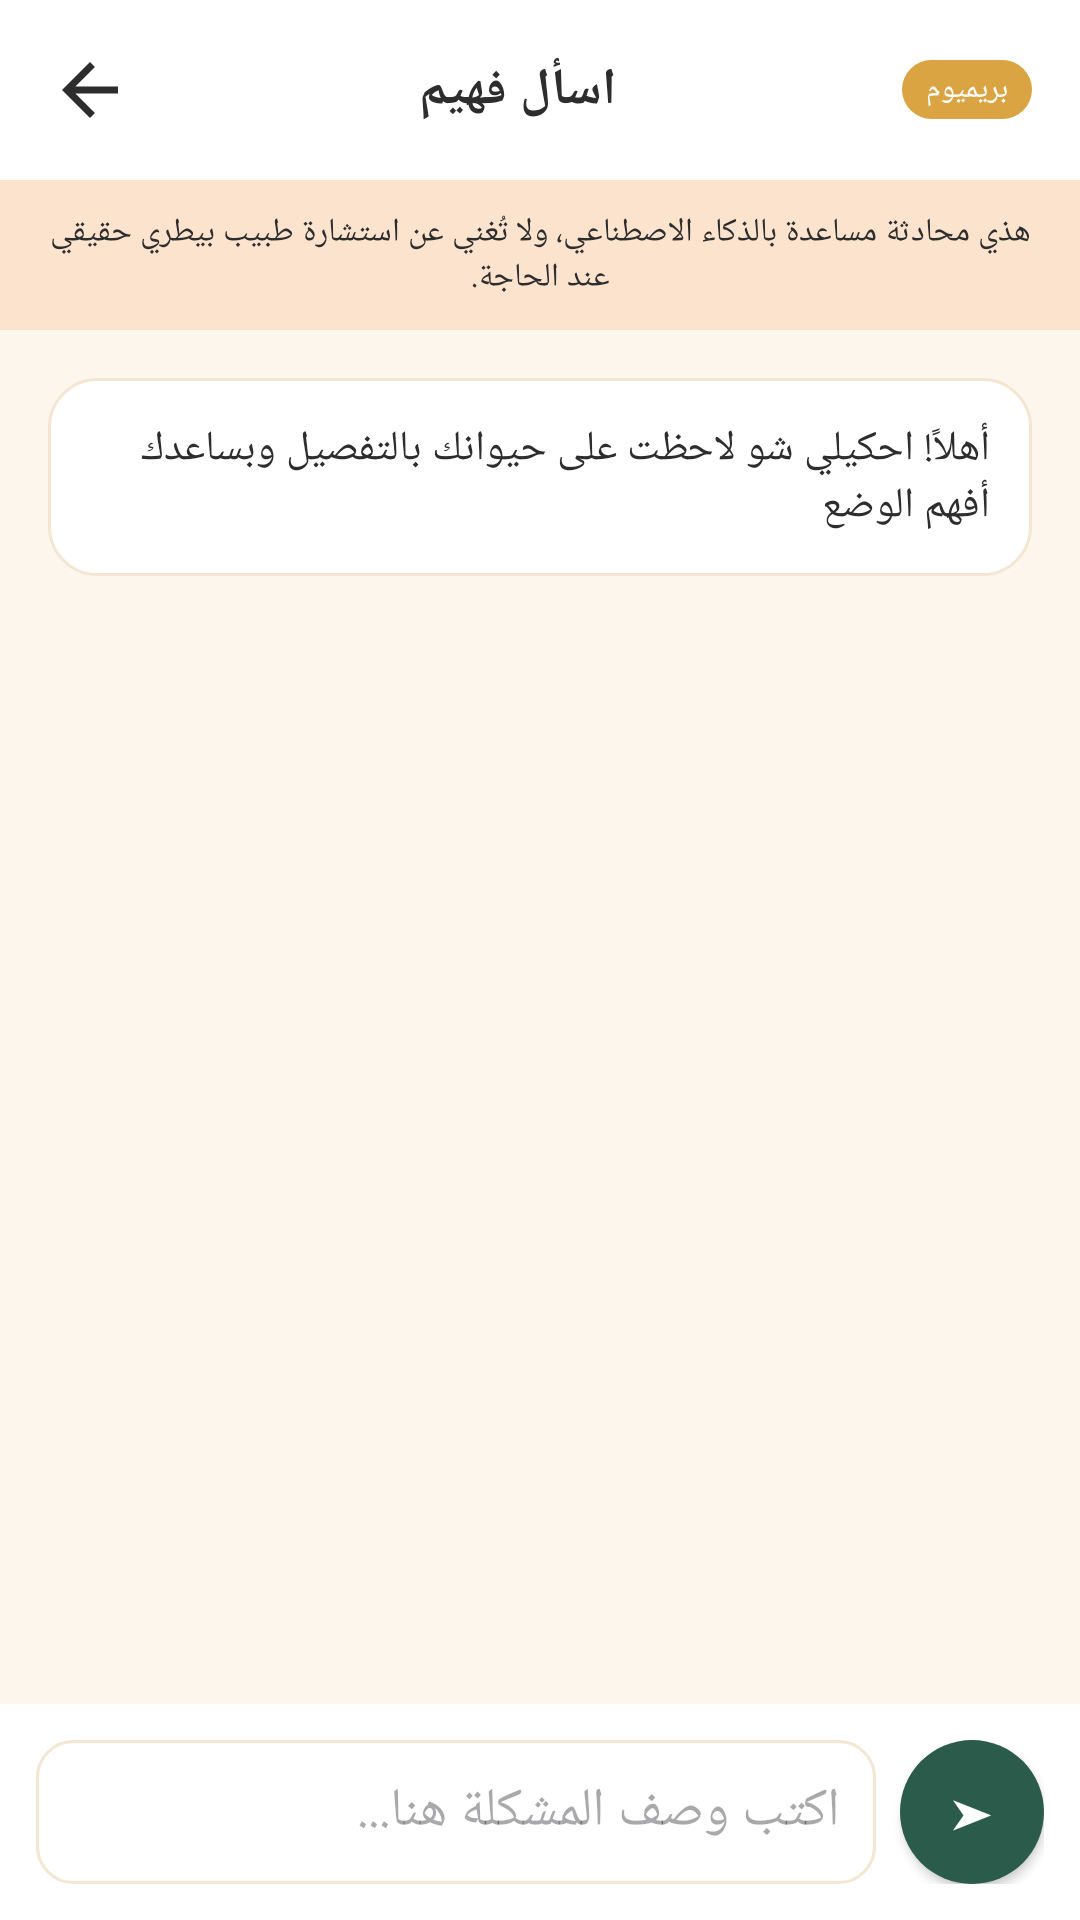

Named icons in this screenshot (1080×1920) and their bounding boxes, box(x1, y1, x2, y2):
رجوع: box(62, 62, 118, 118)
